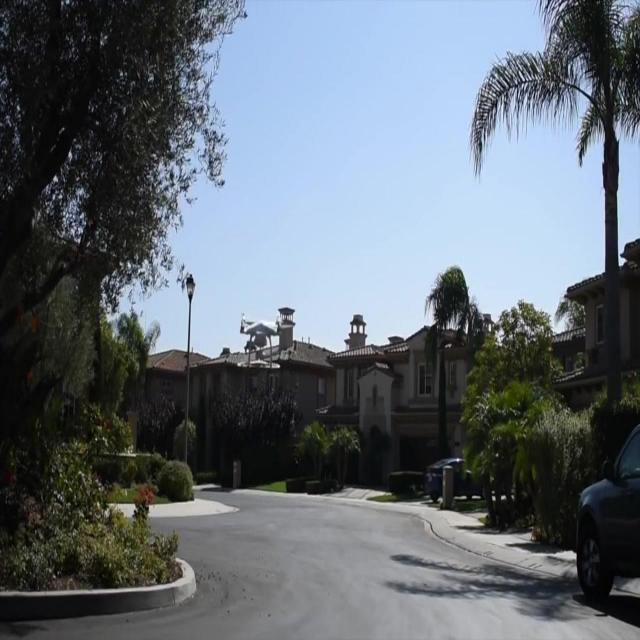UAV: (237, 313, 284, 369)
